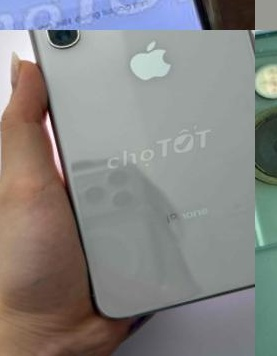scratch: (255, 30, 277, 265)
